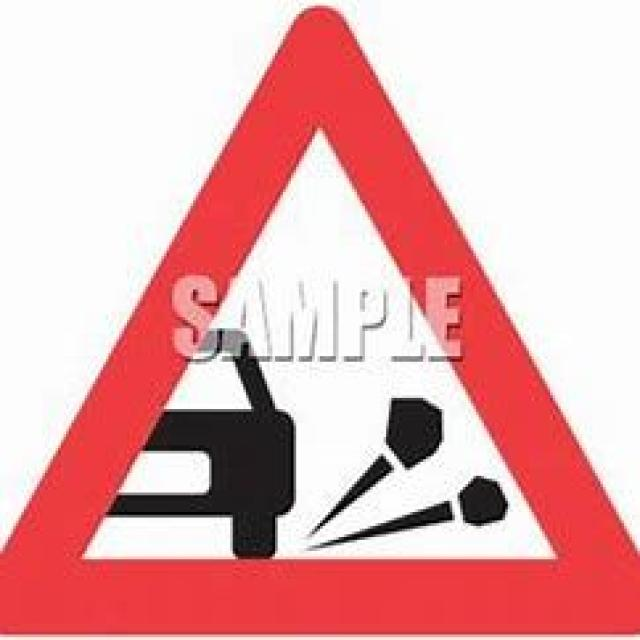LOOSE_GRAVEL: (0, 8, 640, 638)
